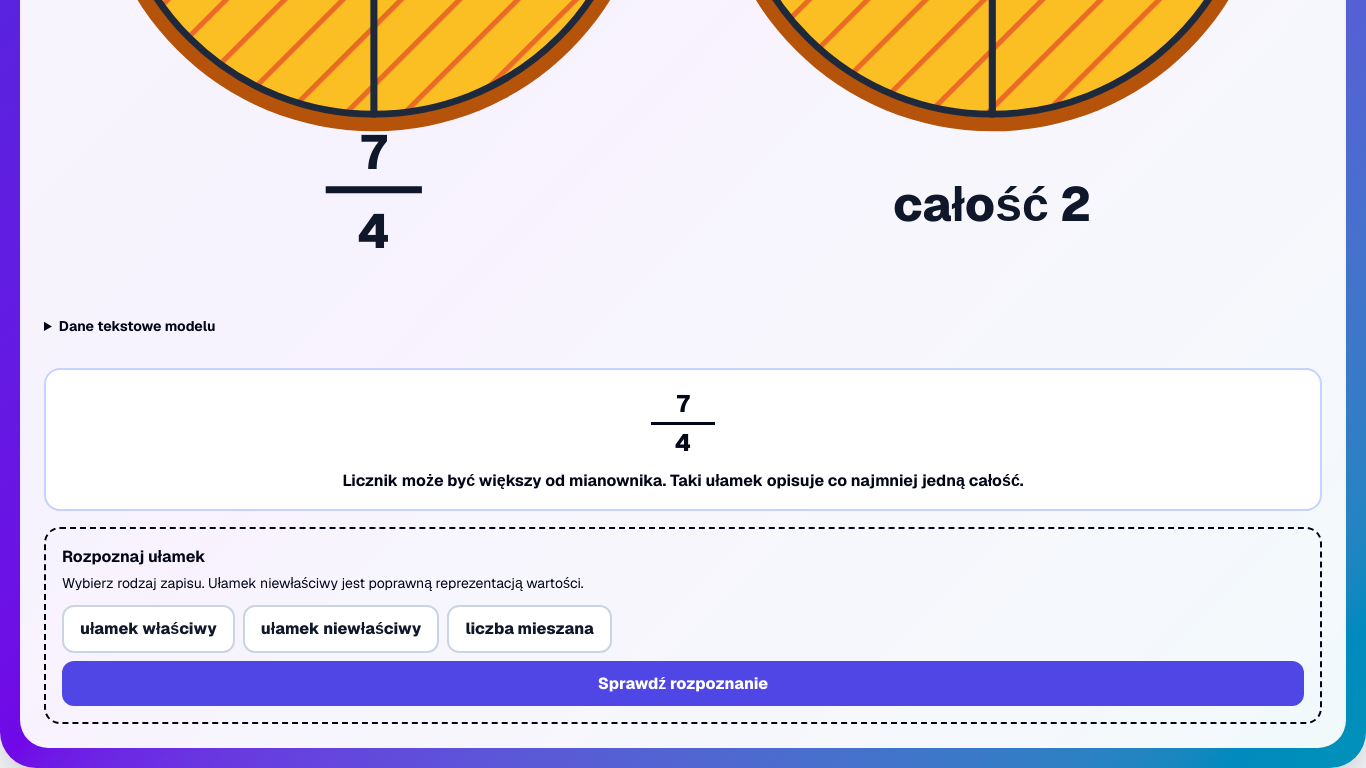
Test: FractionLessonL2Model — klawiatura, dotyk, tablet i diagnostyka › pokazuje 7/4 na dwóch kołach i nie traktuje ułamka niewłaściwego jako błędu
(page scrolled)
Click the button "ułamek niewłaściwy": (341, 629) [243, 605, 439, 654]
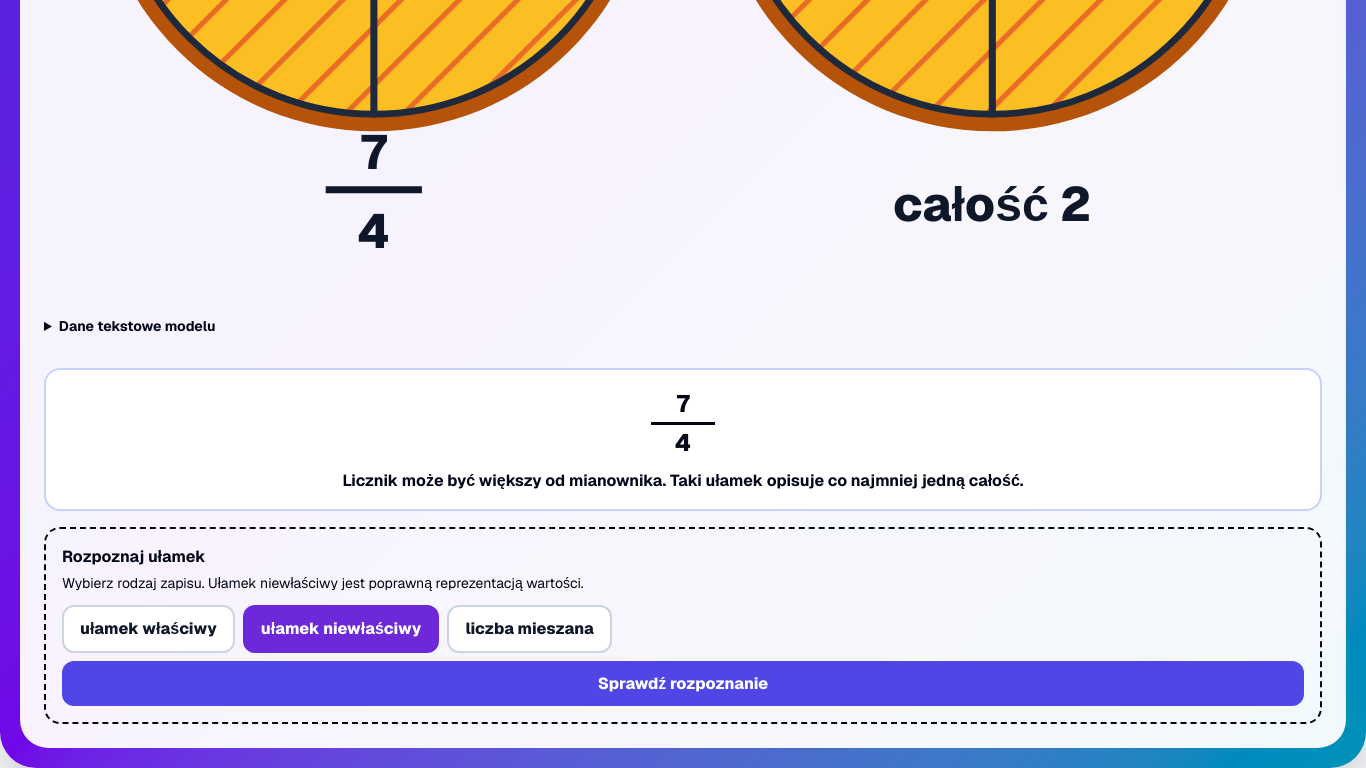
Click the button "Sprawdź rozpoznanie": (683, 684) [62, 662, 1304, 706]
(page scrolled)
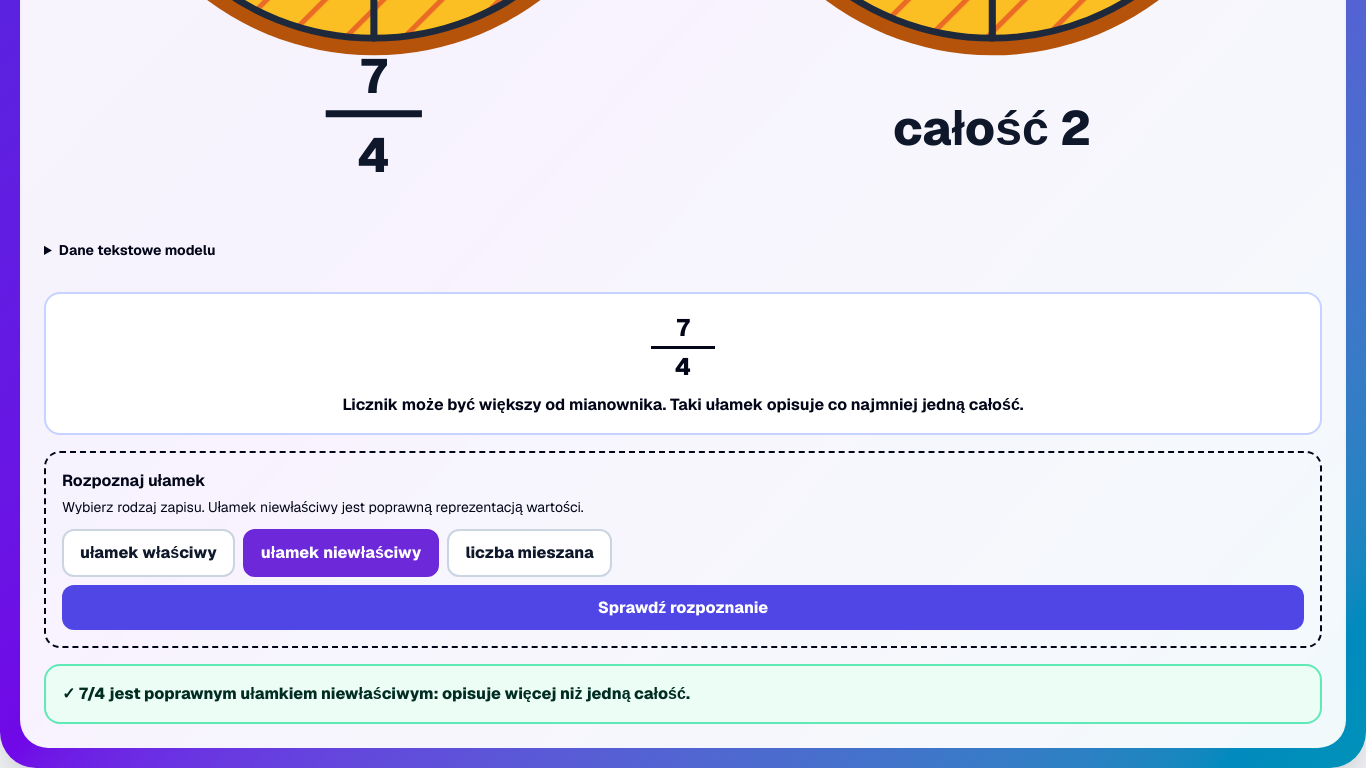
Now the text "✓ 7/4 jest poprawnym ułamkiem niewłaściwym: opisuje więcej niż jedną całość." is shown, box [44, 664, 1322, 724]
